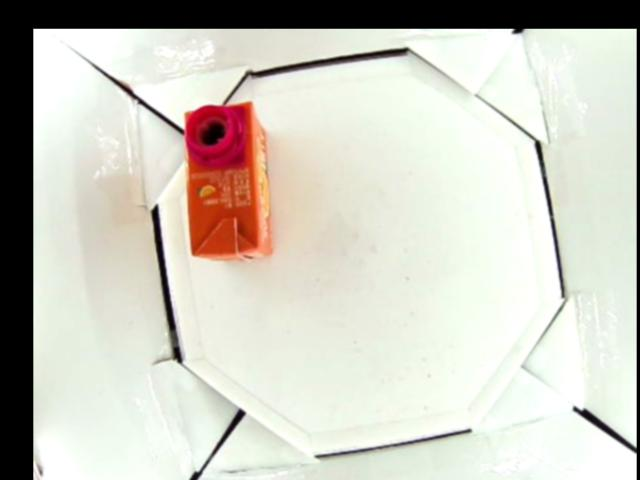Bottle: (182, 99, 273, 261)
